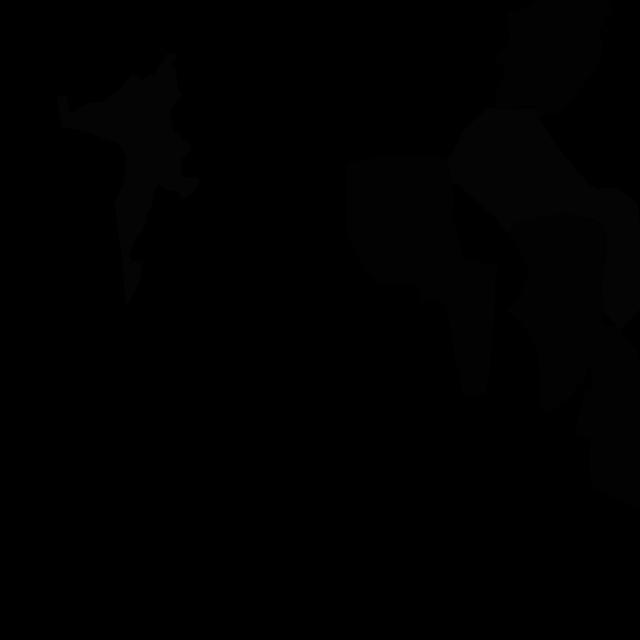cardboard: (346, 155, 498, 395), (507, 213, 606, 415), (494, 0, 614, 118), (576, 324, 640, 511)
soft_plastic: (448, 108, 640, 331), (57, 52, 200, 303)
